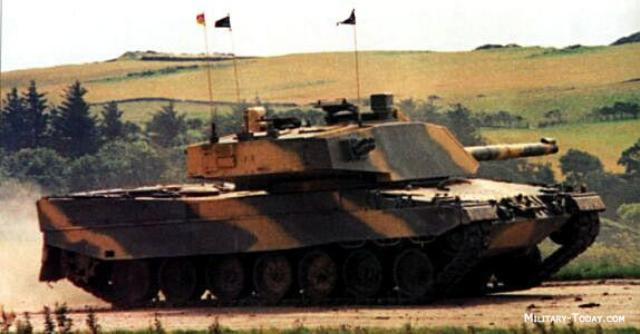tank: (36, 95, 602, 305)
